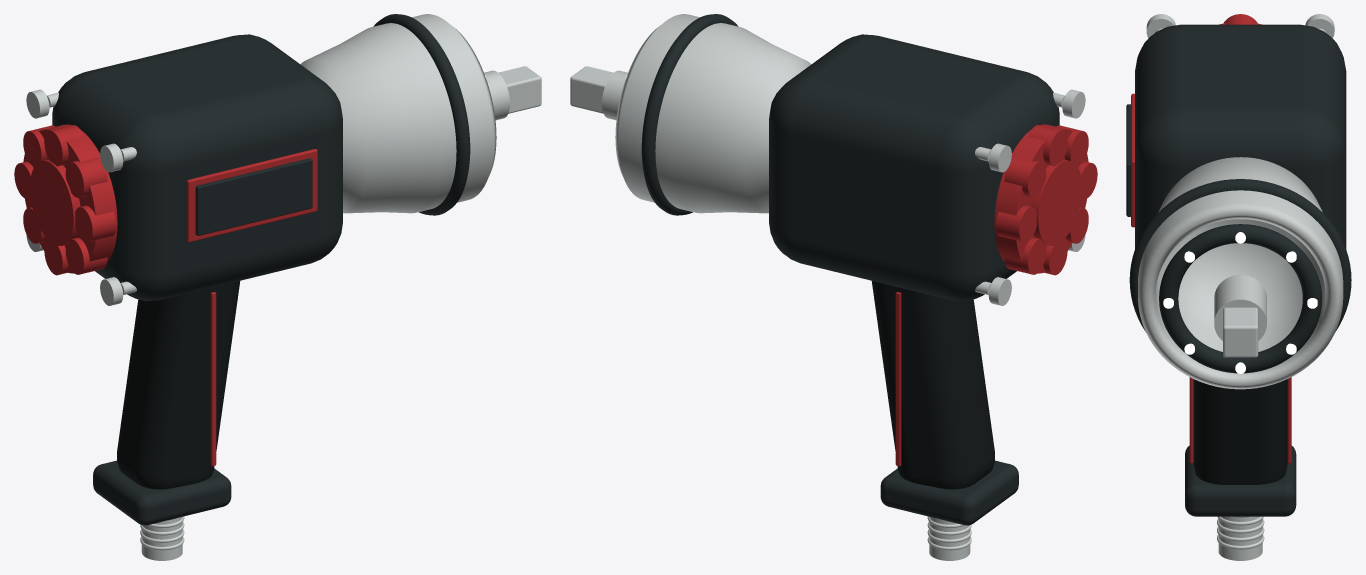
The model's file is wrench.glb.
3 renders of one model, left to right at view 1: azimuth 30°, elevation 25°; view 2: azimuth 150°, elevation 25°; view 3: azimuth 270°, elevation 25°, orthographic. The views are drawn at different scales.
Visible parts, largest first — view 1: Housing and grip, Hammer case, Rear mode dial, Housing fasteners, Drive anvil, Air inlet; view 2: Housing and grip, Hammer case, Rear mode dial, Housing fasteners, Drive anvil, Air inlet; view 3: Housing and grip, Hammer case, Detachable LED ring, Drive anvil, Air inlet, Housing fasteners, Rear mode dial.
Boxes of the visible parts, x1,y1,x2,y2 form: Housing and grip: [52, 34, 342, 525]; Hammer case: [300, 14, 496, 215]; Rear mode dial: [14, 124, 117, 275]; Housing fasteners: [26, 89, 136, 305]; Drive anvil: [484, 66, 541, 120]; Air inlet: [140, 516, 184, 560]; Housing and grip: [769, 34, 1059, 525]; Hammer case: [615, 14, 811, 215]; Rear mode dial: [994, 124, 1097, 275]; Housing fasteners: [975, 89, 1085, 305]; Drive anvil: [570, 66, 627, 120]; Air inlet: [927, 516, 971, 560]; Housing and grip: [1126, 24, 1346, 516]; Hammer case: [1129, 157, 1351, 389]; Detachable LED ring: [1159, 224, 1322, 373]; Drive anvil: [1214, 275, 1266, 357]; Air inlet: [1217, 516, 1264, 560]; Housing fasteners: [1146, 14, 1334, 38]; Rear mode dial: [1219, 14, 1261, 24].
Size of the model in its own units: 2.04 by 1.9 by 0.767.
